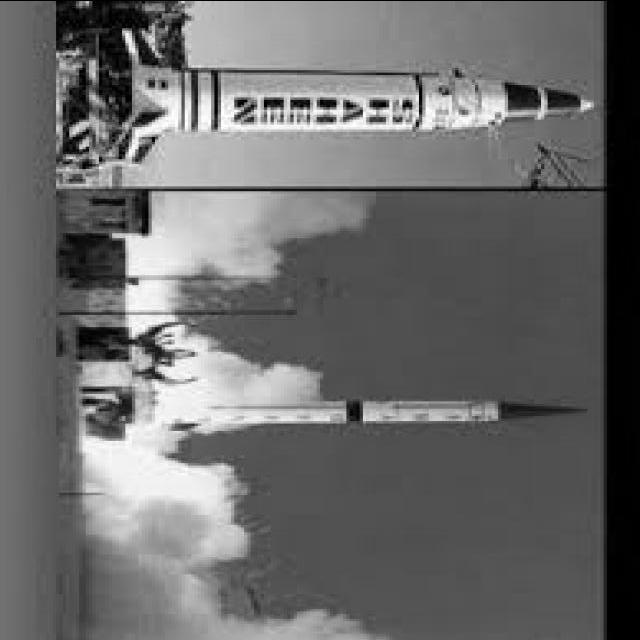missile: (126, 64, 609, 134), (178, 398, 612, 430)
